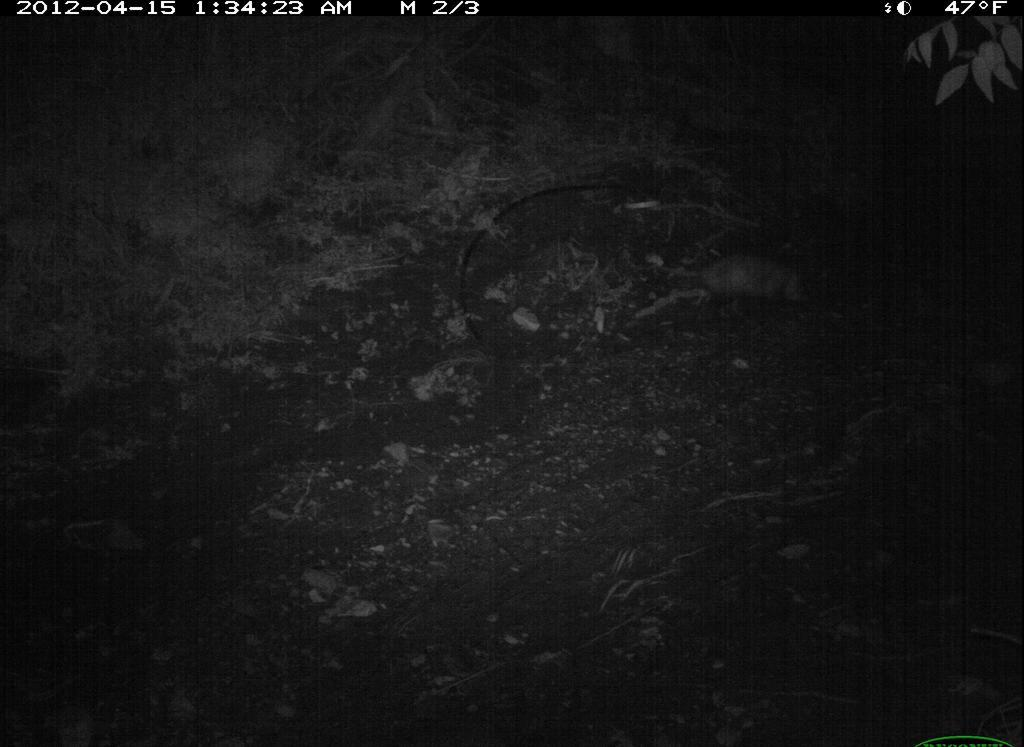opossum: (657, 240, 824, 326)
